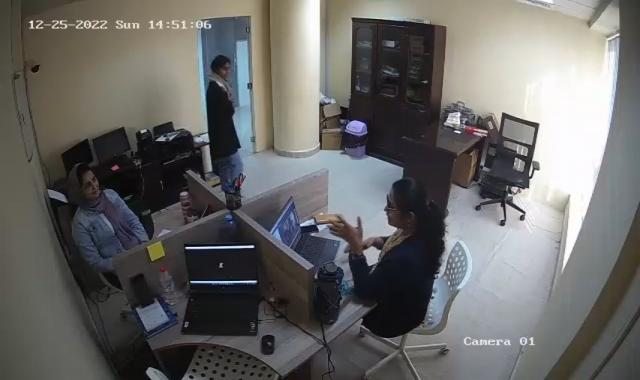no_hairnet: (384, 174, 428, 227), (68, 165, 103, 201), (212, 53, 235, 81)
